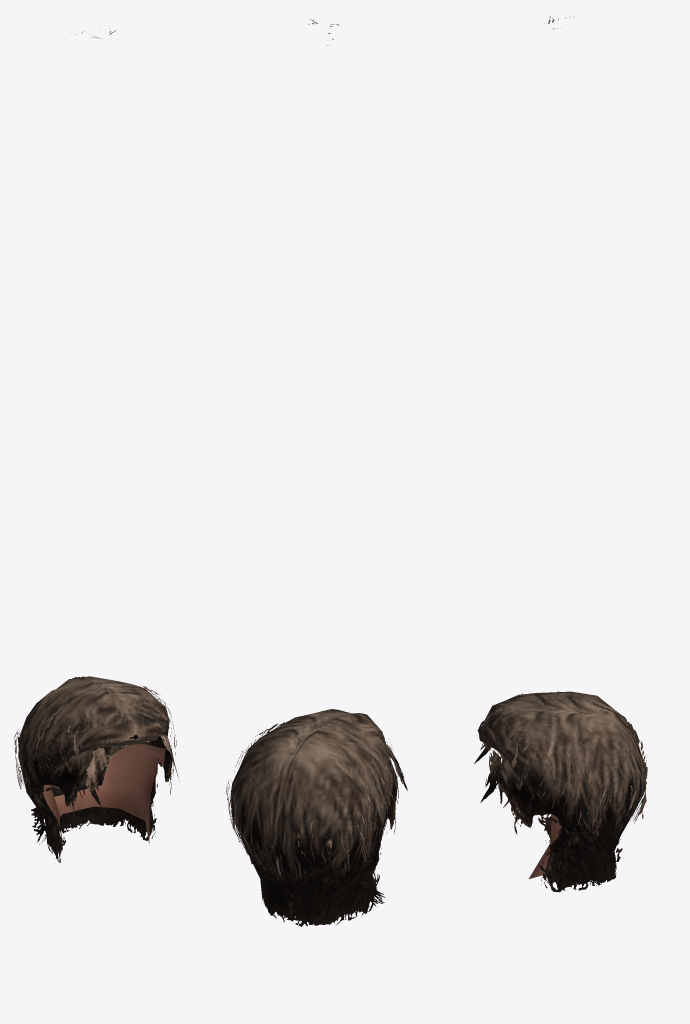
File: hrv-modric.glb
The picture shows the model from 3 angles, left to right: view 1: azimuth 30°, elevation 25°; view 2: azimuth 150°, elevation 25°; view 3: azimuth 270°, elevation 25°; orthographic projection. The views are drawn at different scales.
Parts seen in each view (by area): view 1: hair; view 2: hair; view 3: hair.
Part boxes in pixels (box(x1,y1,x2,y2)): hair: box(14, 27, 178, 862); hair: box(226, 19, 407, 926); hair: box(474, 16, 647, 892).
Bounding box in the file's own units: 0.2197 × 1.24 × 0.2716.
2 materials, 2 textured.
